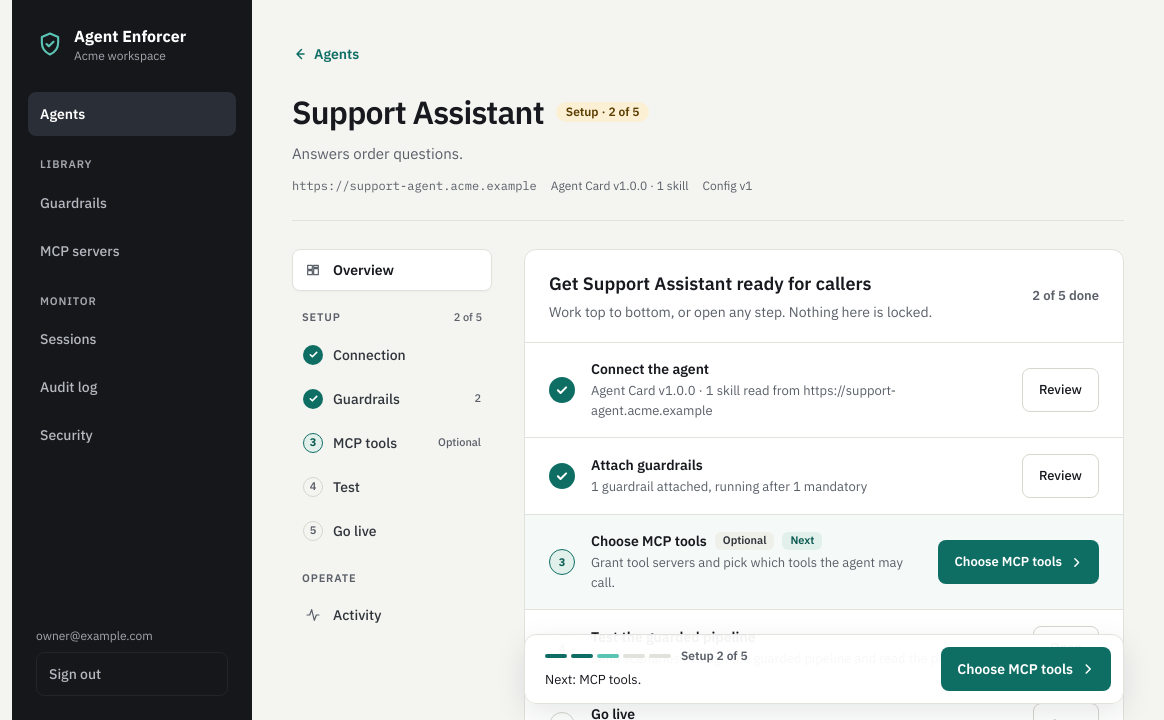
Test: AgentPage › advances to the next step from the overview footer
The width and height of the screenshot is (1164, 720).
Check: the heading "Support Assistant" is shown, box [292,88,544,136]
Check: the text "Next: MCP tools." is shown, box [545,671,641,688]
What coordinates should you click on to do the following:
click the button "Choose MCP tools"
I would click on:
 (1026, 669)
Its box is [941,647,1111,691].
(page scrolled)
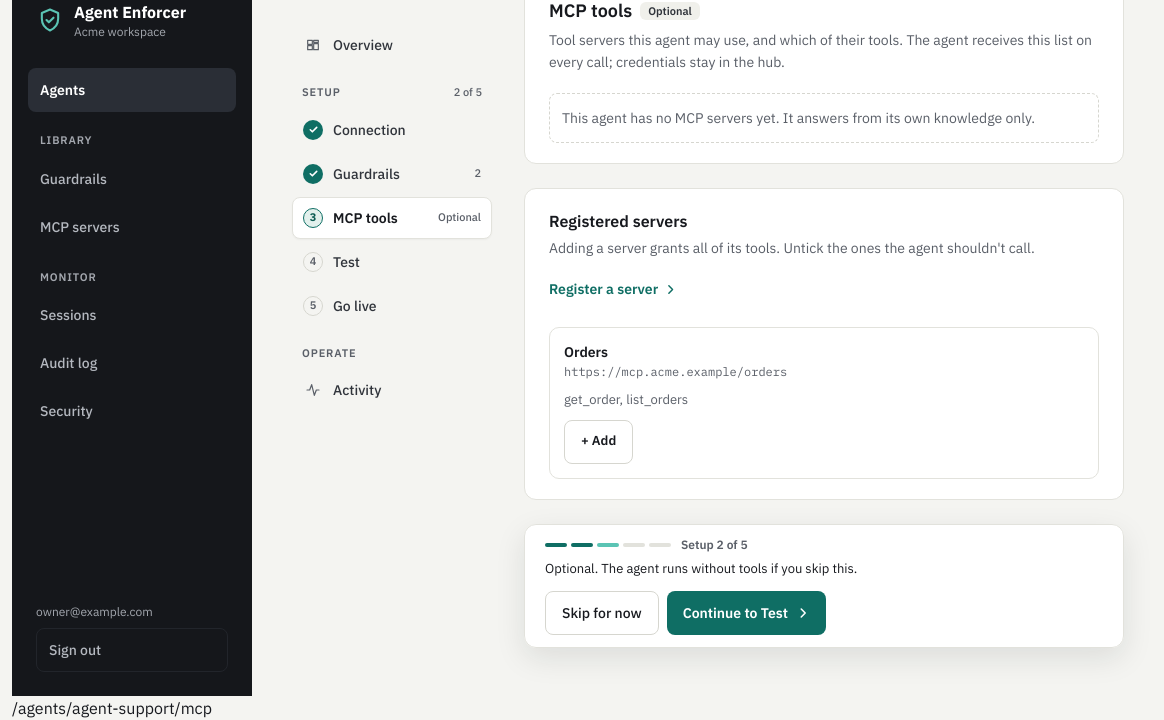
Check: the text with test id "location" reads "/agents/agent-support/mcp", box [12,698,212,718]
